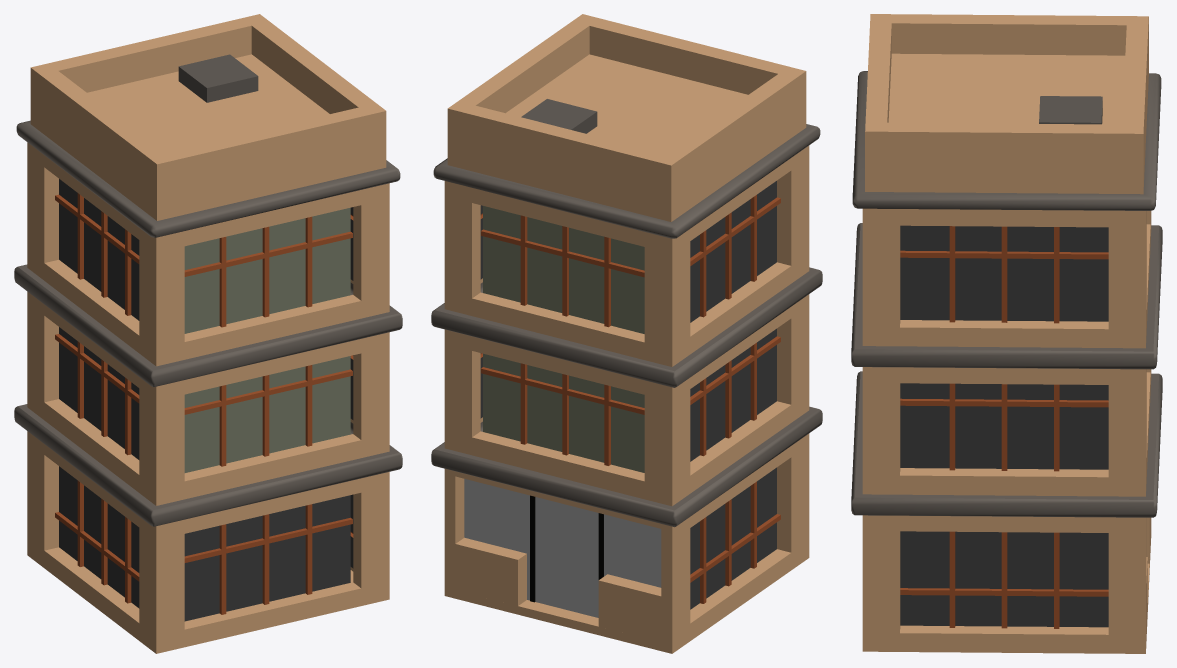
File: commercial-tower.glb
3 renders of one model, left to right at view 1: azimuth 30°, elevation 25°; view 2: azimuth 150°, elevation 25°; view 3: azimuth 270°, elevation 25°, orthographic. The views are drawn at different scales.
Parts seen in each view (by area): view 1: Object_19; view 2: Object_19; view 3: Object_19.
Part boxes in pixels (bbox=[...]): Object_19: bbox=[14, 14, 402, 653]; Object_19: bbox=[431, 14, 822, 653]; Object_19: bbox=[851, 14, 1162, 653].
Bounding box in the file's own units: 8.25 × 15.16 × 8.25.
1 material, 1 textured.
